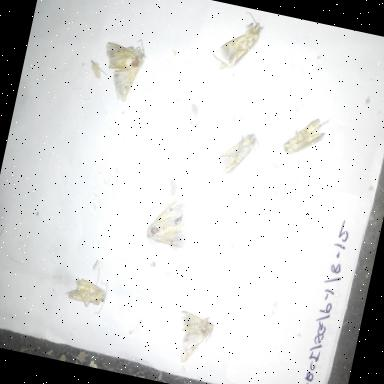abw: (91, 30, 152, 110), (206, 8, 272, 81), (164, 300, 223, 372), (135, 188, 197, 255), (274, 98, 334, 167), (59, 266, 118, 322), (213, 120, 262, 184)
